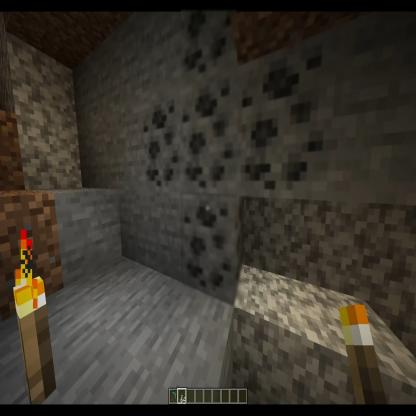coal ore: (236, 33, 334, 198), (180, 68, 239, 198), (181, 193, 244, 308), (181, 2, 237, 87), (141, 94, 180, 194)
